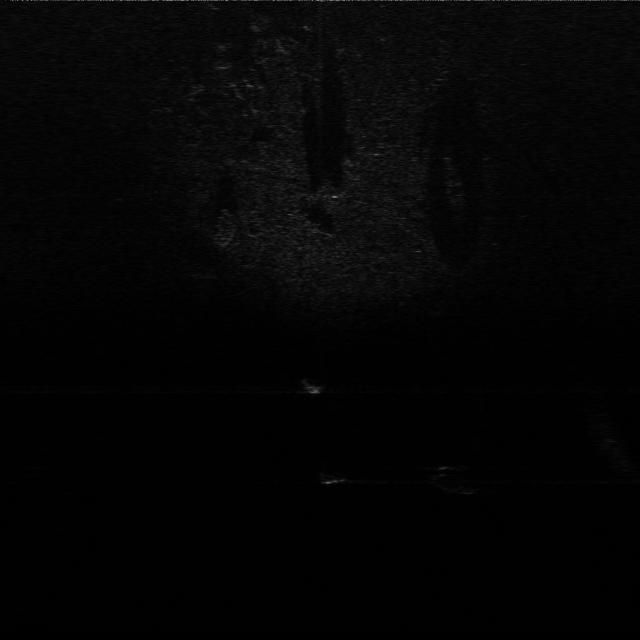cube: (313, 464, 352, 486)
square cage: (292, 373, 333, 398)
tyre: (430, 463, 486, 498)
